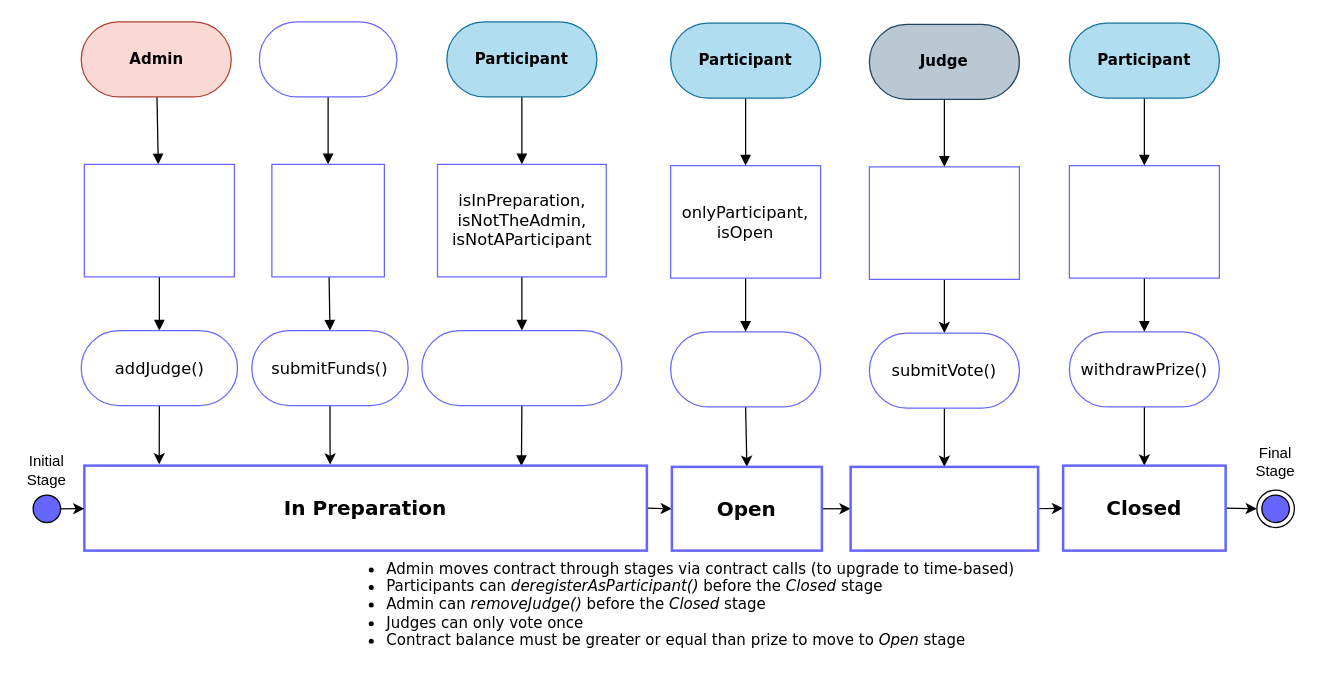
Some shapes in this 1321 by 686 pixel diagram are drawn without their labels. The centre of each missing label's shape, as x and y in pixels:
"(anyone, at any stage)" belongs at (327,220).
"In Voting" belongs at (944,508).
"onlyAdmin, isInPreparation, isNotTheAdmin, isNotAParticipant" belongs at (158,220).
"onlyJudge, isInVoting, hasNotYetVoted, isAParticipant" belongs at (943,222).
"onlyParticipant, isClosed, hasVotes, notYetWithdrawn" belongs at (1143,221).
"registerAsParticipant()" belongs at (521,367).
"submitProject()" belongs at (745,369).
